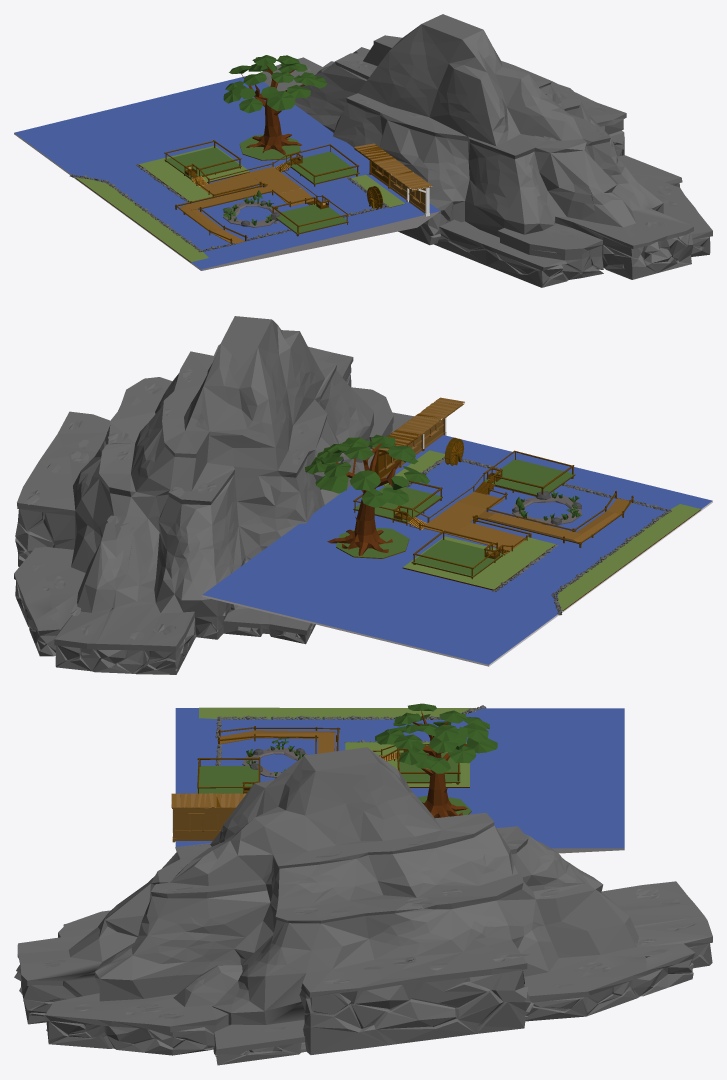
Rendered from OtterBeaverRacoon.fbx.
3 renders of one model, top to bottom at view 1: azimuth 30°, elevation 25°; view 2: azimuth 150°, elevation 25°; view 3: azimuth 270°, elevation 25°, orthographic. The views are drawn at different scales.
Parts seen in each view (by area): view 1: BeaverOtterRacoon, BeaverOtterRacoon.002, BeaverOtterRacoon.001; view 2: BeaverOtterRacoon, BeaverOtterRacoon.002, BeaverOtterRacoon.001; view 3: BeaverOtterRacoon, BeaverOtterRacoon.002, BeaverOtterRacoon.001.
Boxes of the visible parts, <box> form: BeaverOtterRacoon: <box>14,14,712,287</box>; BeaverOtterRacoon.002: <box>389,169,431,216</box>; BeaverOtterRacoon.001: <box>368,156,413,202</box>; BeaverOtterRacoon: <box>14,316,712,674</box>; BeaverOtterRacoon.002: <box>414,397,464,448</box>; BeaverOtterRacoon.001: <box>392,413,442,465</box>; BeaverOtterRacoon: <box>14,703,712,1065</box>; BeaverOtterRacoon.002: <box>171,793,225,842</box>; BeaverOtterRacoon.001: <box>216,793,246,835</box>.
Bounding box in the file's own units: 60315 × 19751 × 60782.
